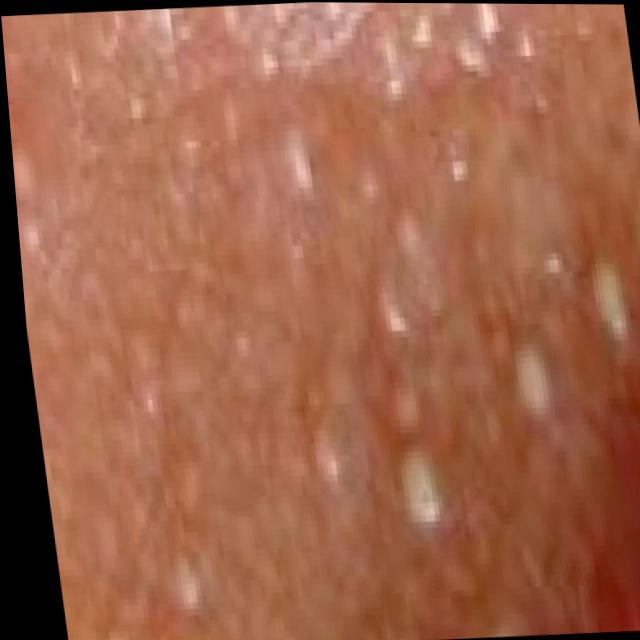whitehead: (9, 2, 640, 640)
